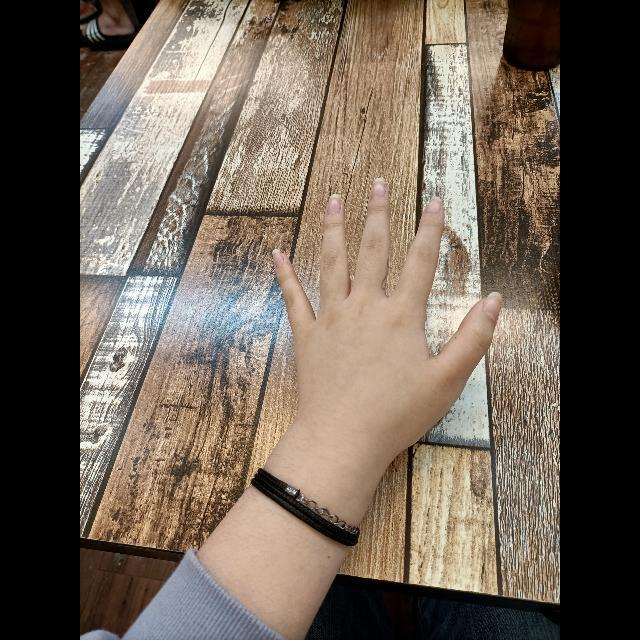bare_hand: (255, 182, 507, 497)
